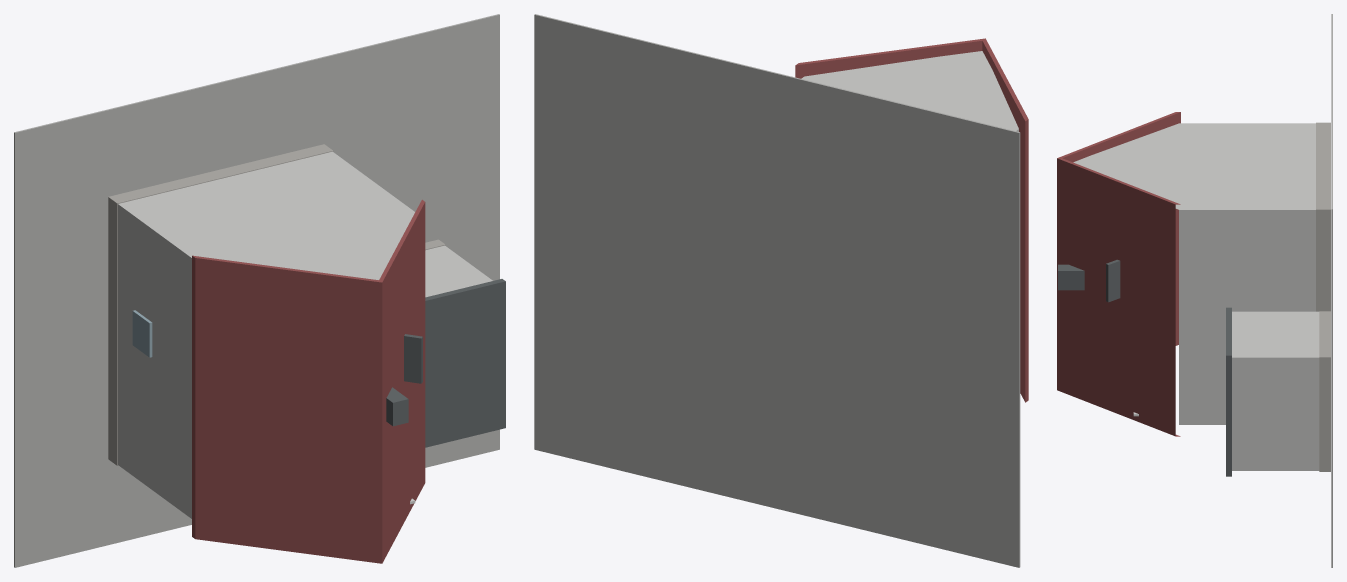
The model's file is jugendhaus v2.glb.
The picture shows the model from 3 angles, left to right: view 1: azimuth 30°, elevation 25°; view 2: azimuth 150°, elevation 25°; view 3: azimuth 270°, elevation 25°; orthographic projection. The views are drawn at different scales.
Visible parts, largest first — view 1: ground, roof_left_top, main_walls, annex_flat_roof, roof_right_top, rear_gable, main_base, annex_walls, left_outer_edge, roof_window, left_small_window, chimney; view 2: ground, rear_gable, roof_left_bottom, roof_right_bottom, left_outer_edge, main_walls; view 3: main_walls, roof_right_top, annex_walls, rear_gable, main_base, annex_base, roof_left_bottom, ground, annex_flat_roof, chimney, roof_window.
Boxes of the visible parts, x1,y1,x2,y2 form: ground: [14, 14, 499, 567]; roof_left_top: [195, 258, 382, 563]; main_walls: [118, 151, 414, 518]; annex_flat_roof: [425, 279, 505, 447]; roof_right_top: [382, 202, 425, 562]; rear_gable: [223, 212, 414, 279]; main_base: [108, 144, 333, 465]; annex_walls: [425, 245, 492, 297]; left_outer_edge: [192, 256, 195, 538]; roof_window: [404, 334, 422, 383]; left_small_window: [132, 310, 152, 357]; chimney: [386, 387, 408, 426]; ground: [534, 14, 1020, 567]; rear_gable: [805, 51, 1018, 128]; roof_left_bottom: [982, 41, 1025, 401]; roof_right_bottom: [795, 41, 982, 78]; left_outer_edge: [1025, 119, 1028, 402]; main_walls: [801, 76, 1018, 131]; main_walls: [1179, 123, 1315, 424]; roof_right_top: [1057, 158, 1175, 436]; annex_walls: [1232, 311, 1319, 470]; rear_gable: [1073, 123, 1178, 209]; main_base: [1316, 122, 1330, 311]; annex_base: [1319, 311, 1330, 471]; roof_left_bottom: [1063, 112, 1180, 345]; ground: [1331, 14, 1332, 567]; annex_flat_roof: [1226, 307, 1231, 476]; chimney: [1058, 264, 1084, 290]; roof_window: [1106, 259, 1120, 302].
Bounding box in the file's own units: 14 × 12 × 8.37.
